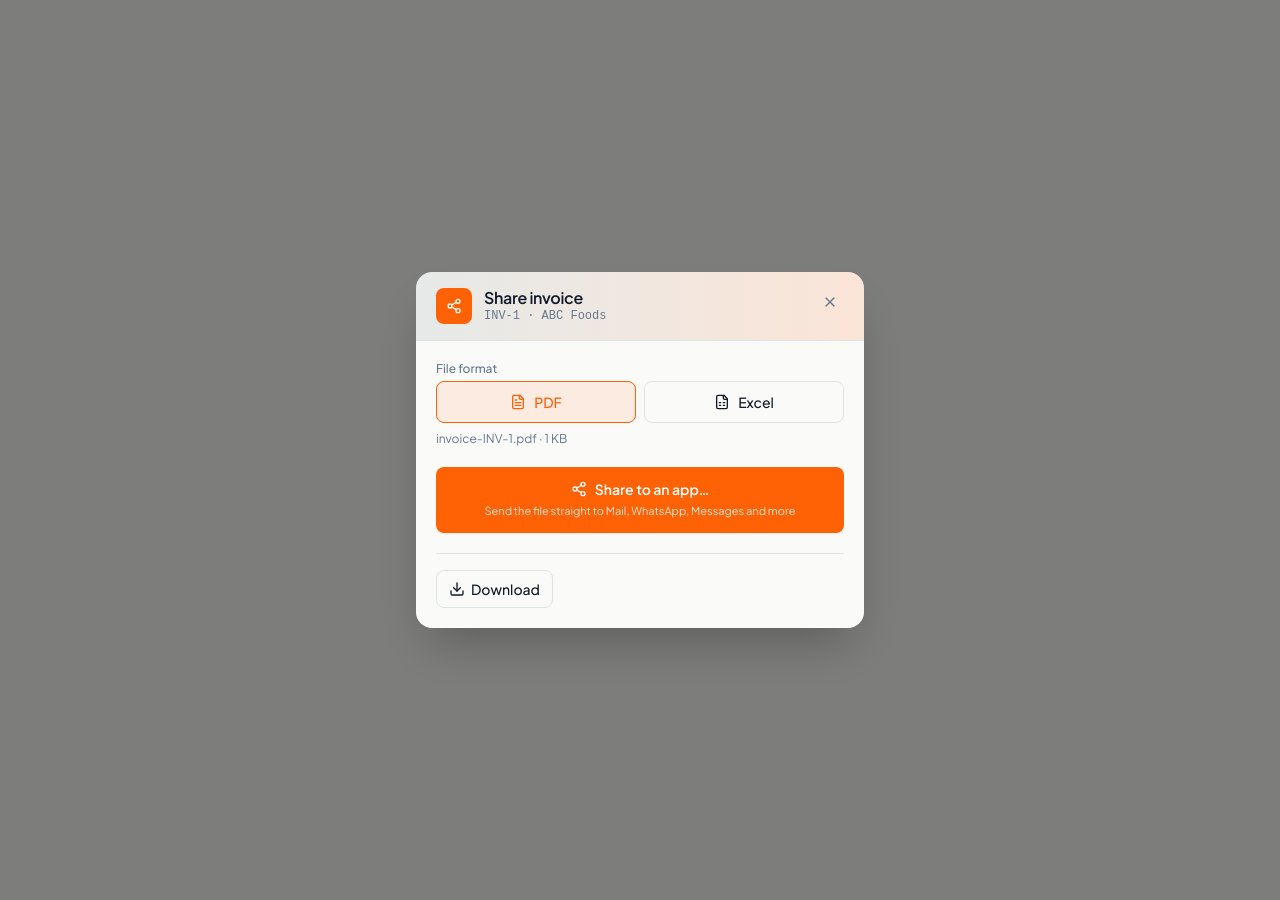
ShareInvoiceDialog when the browser refuses a file type (Excel in Chrome and Brave) › greys out Share to an app for Excel and tells the user to download and share it
Expected: the text "invoice-INV-1.pdf · 1 KB" is shown, x1=436 y1=431 x2=567 y2=447
Expected: the button "Share to an app" is enabled, x1=436 y1=467 x2=844 y2=533
Click the radio button labelled "Excel". click: x=744, y=402
box: x1=644 y1=381 x2=844 y2=423
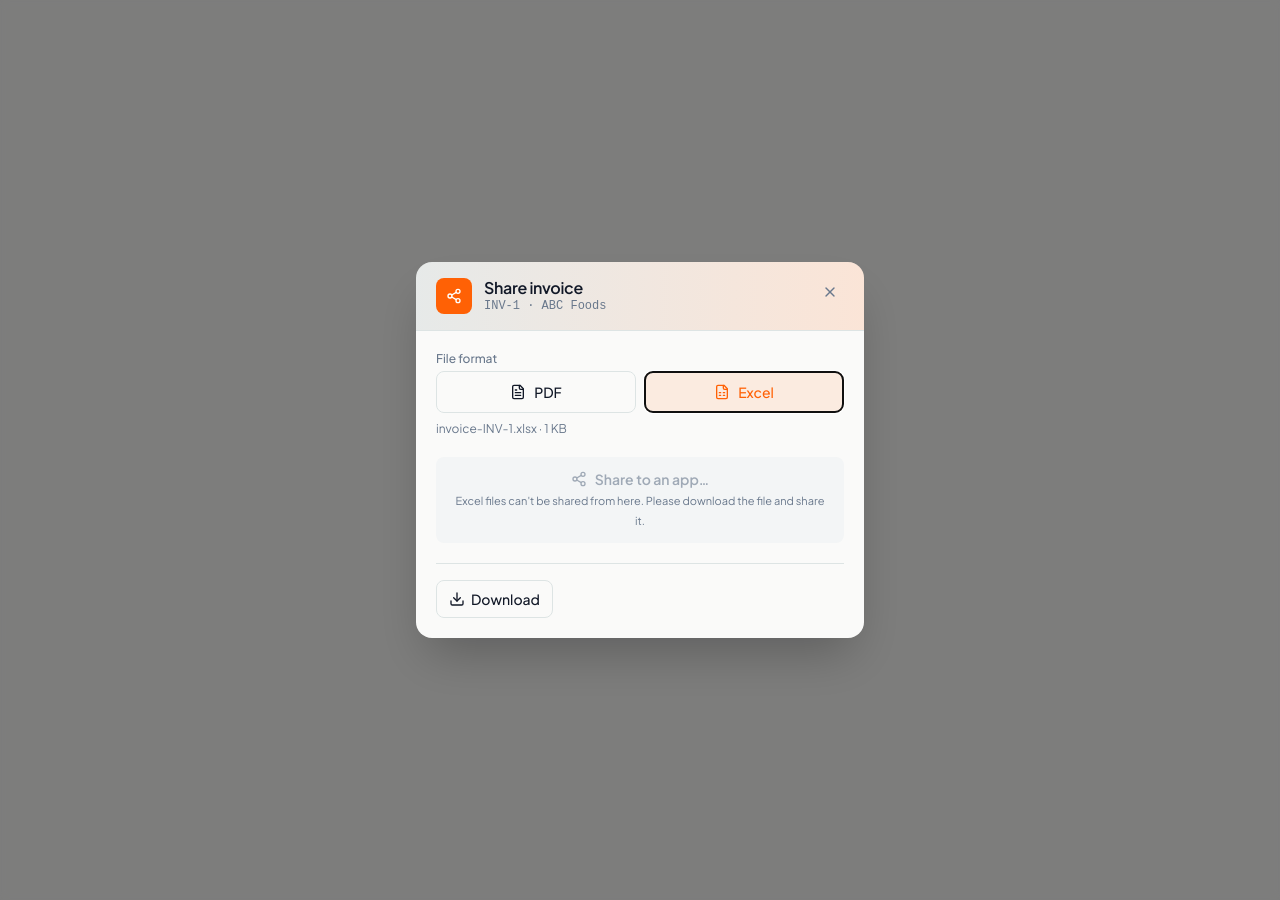
Expected: the text "invoice-INV-1.xlsx · 1 KB" is shown, x1=436 y1=421 x2=567 y2=437
Expected: the button "Share to an app" is disabled, x1=436 y1=457 x2=844 y2=543
Expected: the text "Excel files can't be shared from here. Please download the file and share it." is shown, x1=452 y1=491 x2=828 y2=531
Click the radio button labelled "PDF". click: x=536, y=392
box: x1=436 y1=371 x2=636 y2=413
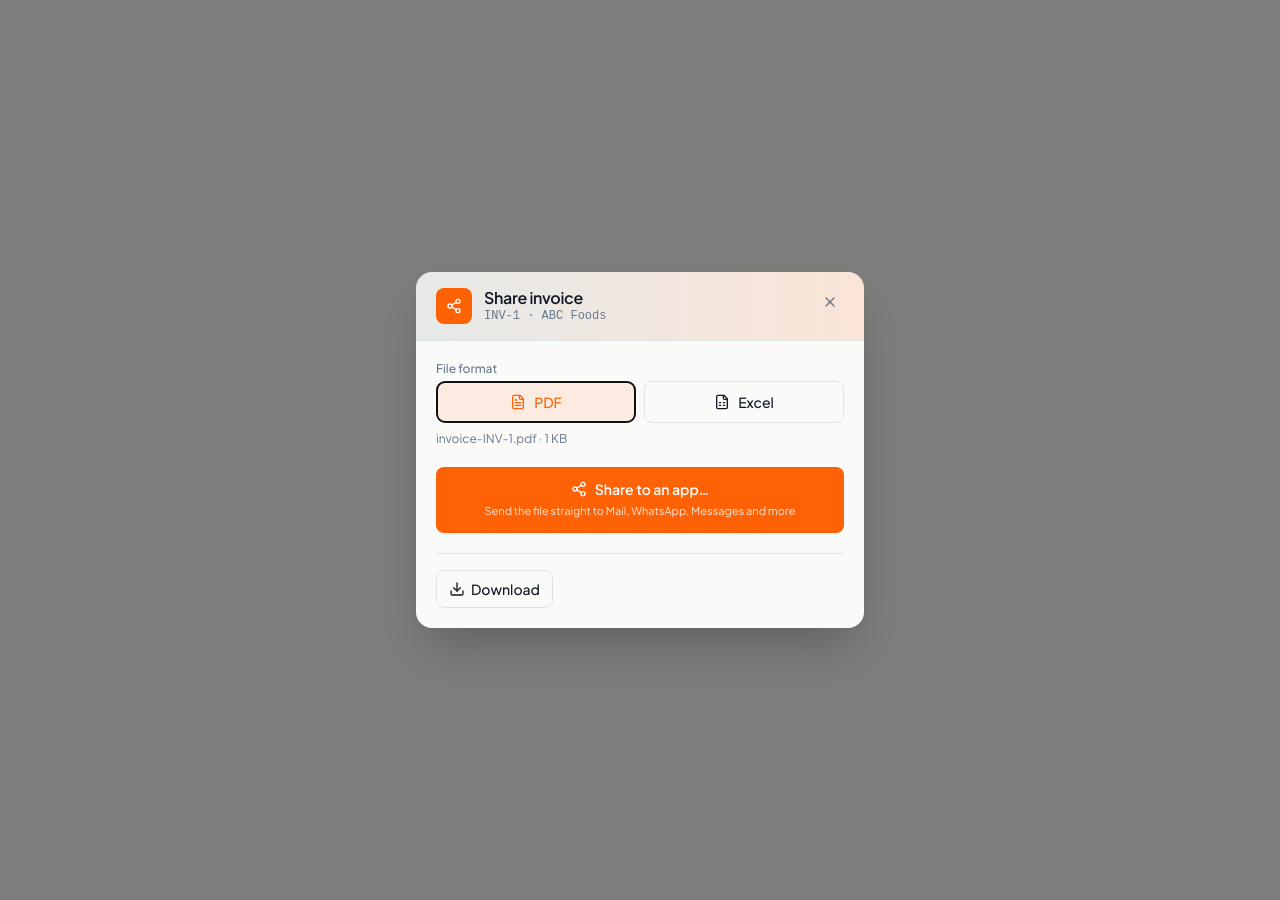
Expected: the text "invoice-INV-1.pdf · 1 KB" is shown, x1=436 y1=431 x2=567 y2=447
Expected: the button "Share to an app" is enabled, x1=436 y1=467 x2=844 y2=533
